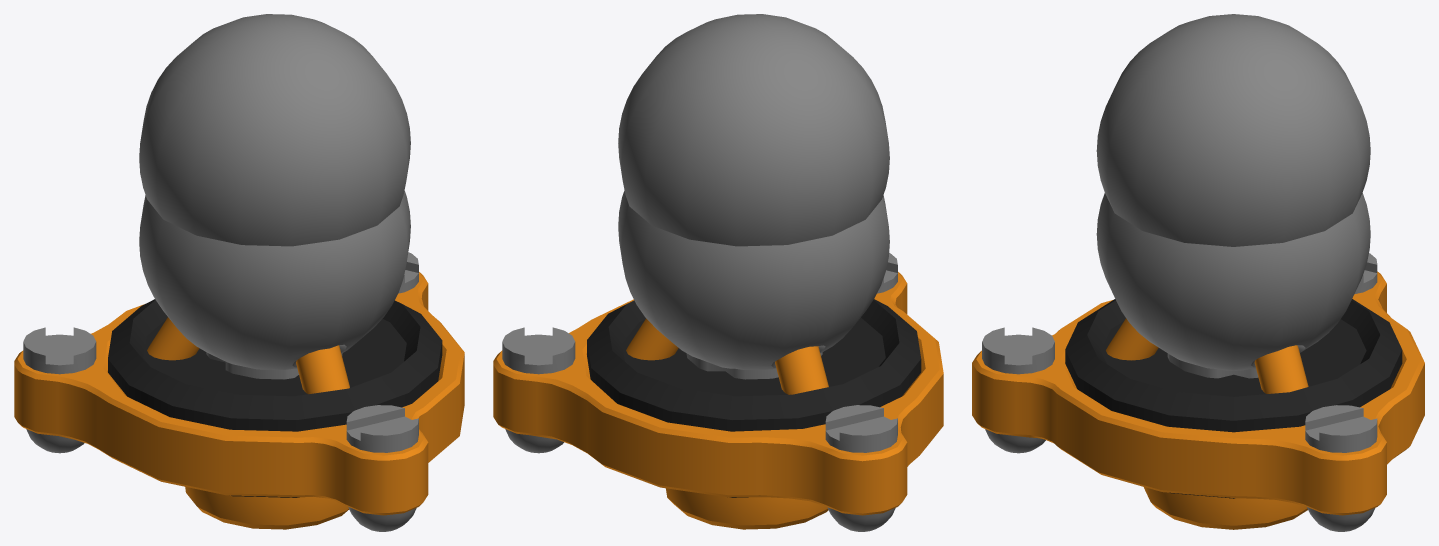
File: MK00_roller_arm.gltf
3 renders of one model, left to right at view 1: azimuth 30°, elevation 25°; view 2: azimuth 150°, elevation 25°; view 3: azimuth 270°, elevation 25°, orthographic.
Parts seen in each view (by area): view 1: BLD_base, BLD_arm_top_ring, BLD_arm_bottom_ring, BLD_arm_rod_big; view 2: BLD_base, BLD_arm_top_ring, BLD_arm_bottom_ring, BLD_arm_rod_big; view 3: BLD_base, BLD_arm_top_ring, BLD_arm_bottom_ring, BLD_arm_rod_big.
Part boxes in pixels (x1=…): BLD_base: x1=14, y1=191, x2=464, y2=531; BLD_arm_top_ring: x1=139, y1=14, x2=410, y2=246; BLD_arm_bottom_ring: x1=185, y1=487, x2=349, y2=529; BLD_arm_rod_big: x1=206, y1=352, x2=342, y2=379; BLD_base: x1=493, y1=190, x2=943, y2=531; BLD_arm_top_ring: x1=618, y1=14, x2=889, y2=246; BLD_arm_bottom_ring: x1=666, y1=488, x2=828, y2=529; BLD_arm_rod_big: x1=686, y1=352, x2=822, y2=379; BLD_base: x1=972, y1=193, x2=1424, y2=531; BLD_arm_top_ring: x1=1096, y1=14, x2=1370, y2=246; BLD_arm_bottom_ring: x1=1144, y1=487, x2=1307, y2=529; BLD_arm_rod_big: x1=1167, y1=353, x2=1258, y2=378.
Bounding box in the file's own units: 0.2806 × 0.3126 × 0.2744.
